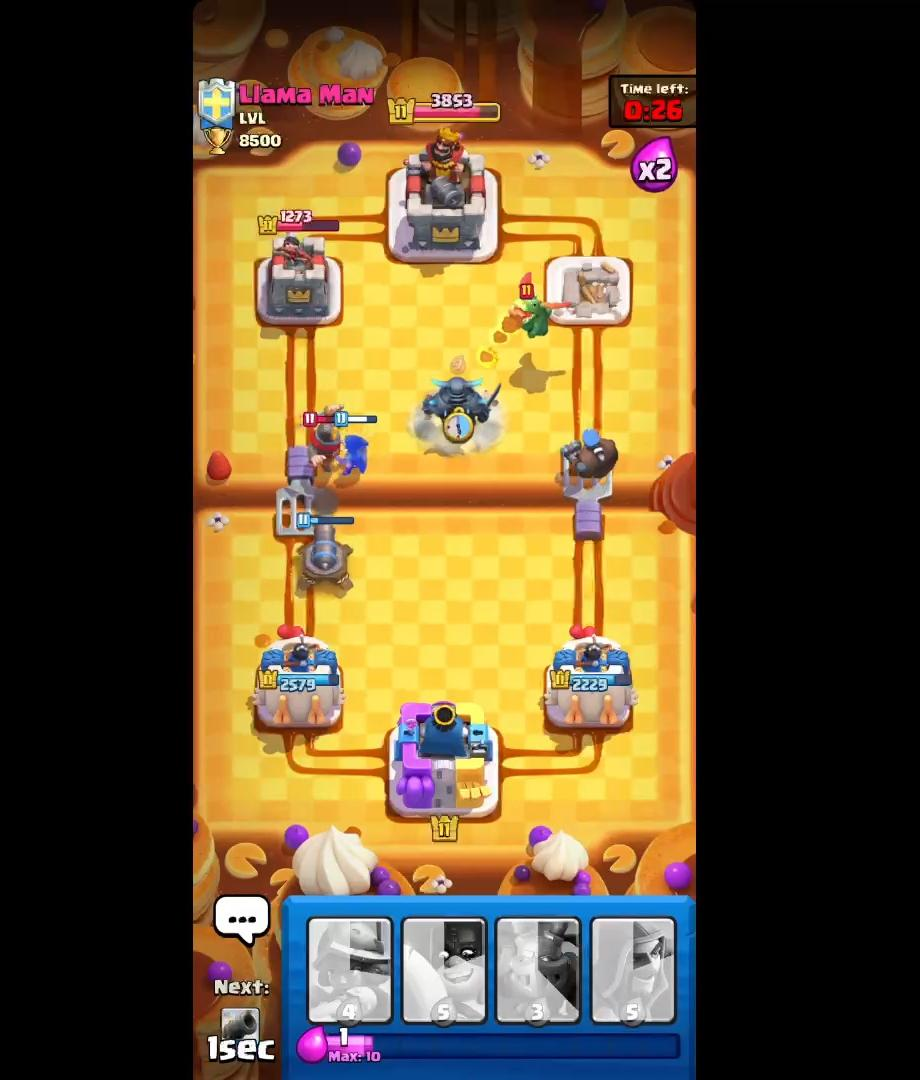Baby Dragon: (494, 282, 567, 346)
